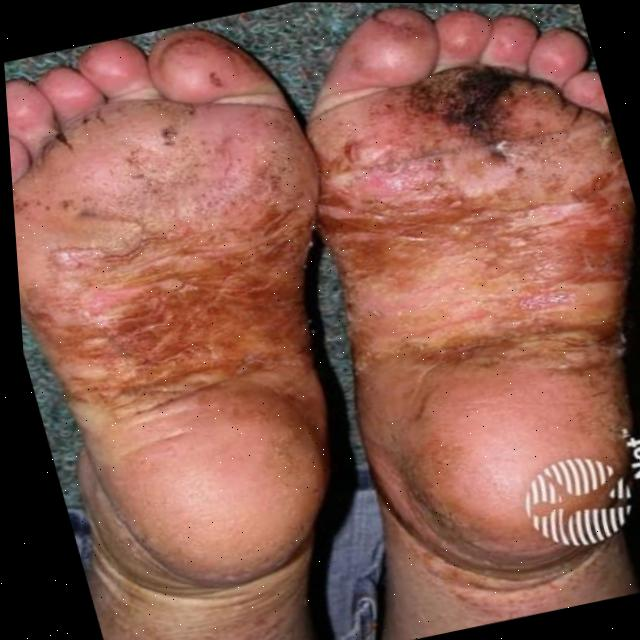Eczema: (27, 89, 377, 539), (311, 58, 640, 469)
